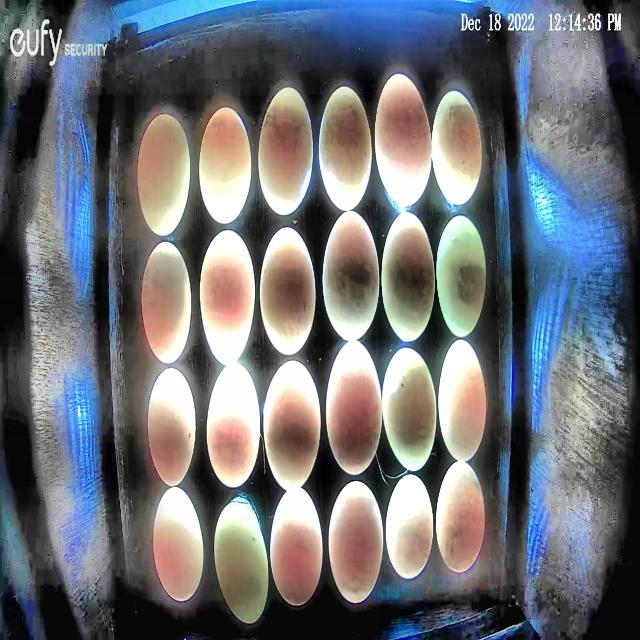UF: (198, 227, 256, 368), (374, 71, 433, 208), (258, 224, 318, 356), (322, 209, 381, 343), (326, 340, 384, 476), (262, 361, 322, 492), (258, 86, 314, 218), (381, 211, 437, 343), (328, 479, 386, 606), (318, 84, 374, 214), (213, 500, 270, 625), (382, 347, 438, 473), (137, 111, 191, 239), (206, 365, 261, 489), (140, 238, 193, 366), (436, 212, 489, 338), (270, 488, 324, 608), (152, 484, 205, 603), (437, 338, 487, 462), (200, 108, 252, 226), (432, 88, 483, 207), (148, 368, 198, 488), (435, 460, 487, 574), (386, 472, 435, 582)
